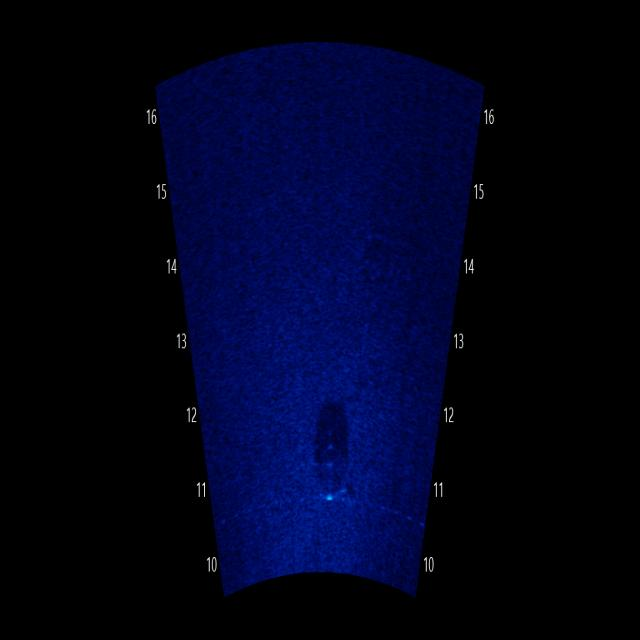circle: (309, 407, 363, 514)
